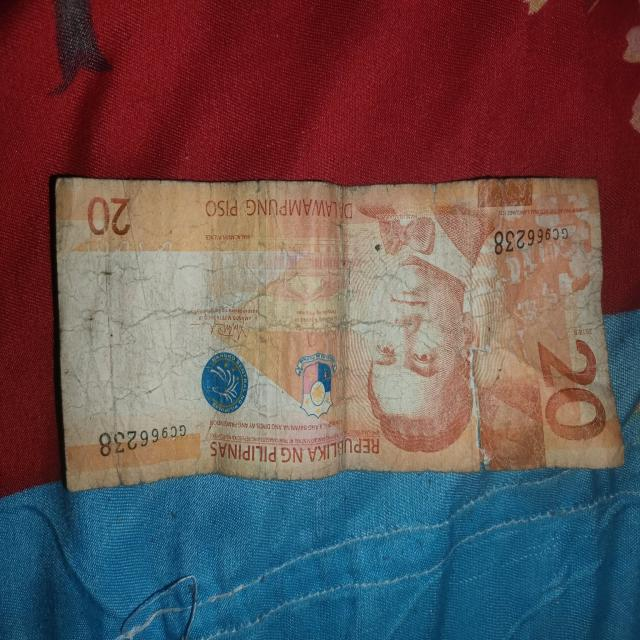broken: (54, 177, 630, 498)
torn: (460, 334, 508, 484)
